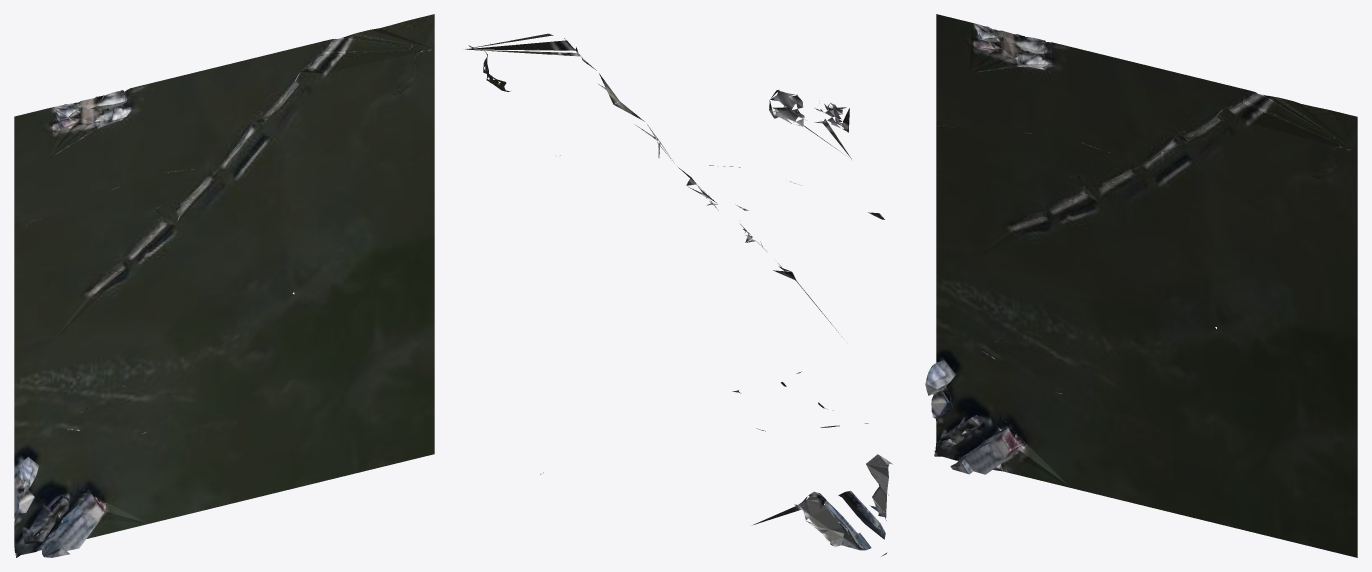
Rendered from Tile_+038_+024_L17_0001.glb.
3 views of the same model, side by side, from view 1: azimuth 30°, elevation 25°; view 2: azimuth 150°, elevation 25°; view 3: azimuth 330°, elevation 25° (orthographic).
Bounding box in the file's own units: 126 × 126 × 5.95.
Materials: 1 (1 with a texture image).
